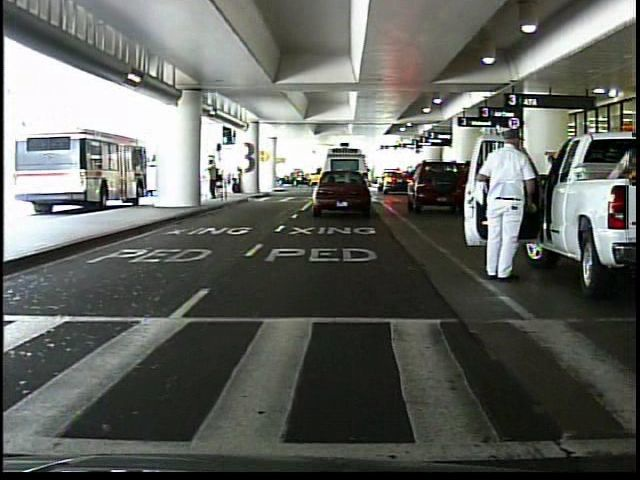person: (476, 125, 538, 286), (207, 155, 222, 203), (231, 163, 247, 198)
